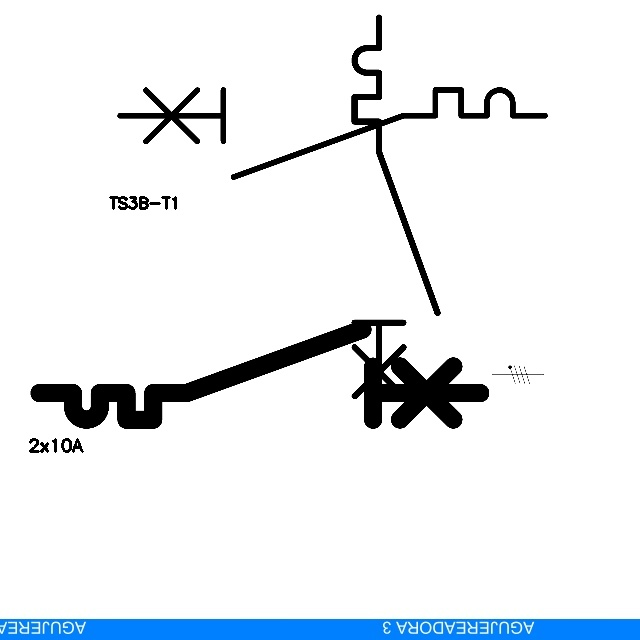interruptor_termomagnetico: (28, 318, 492, 431), (109, 79, 556, 188), (344, 7, 447, 431)
